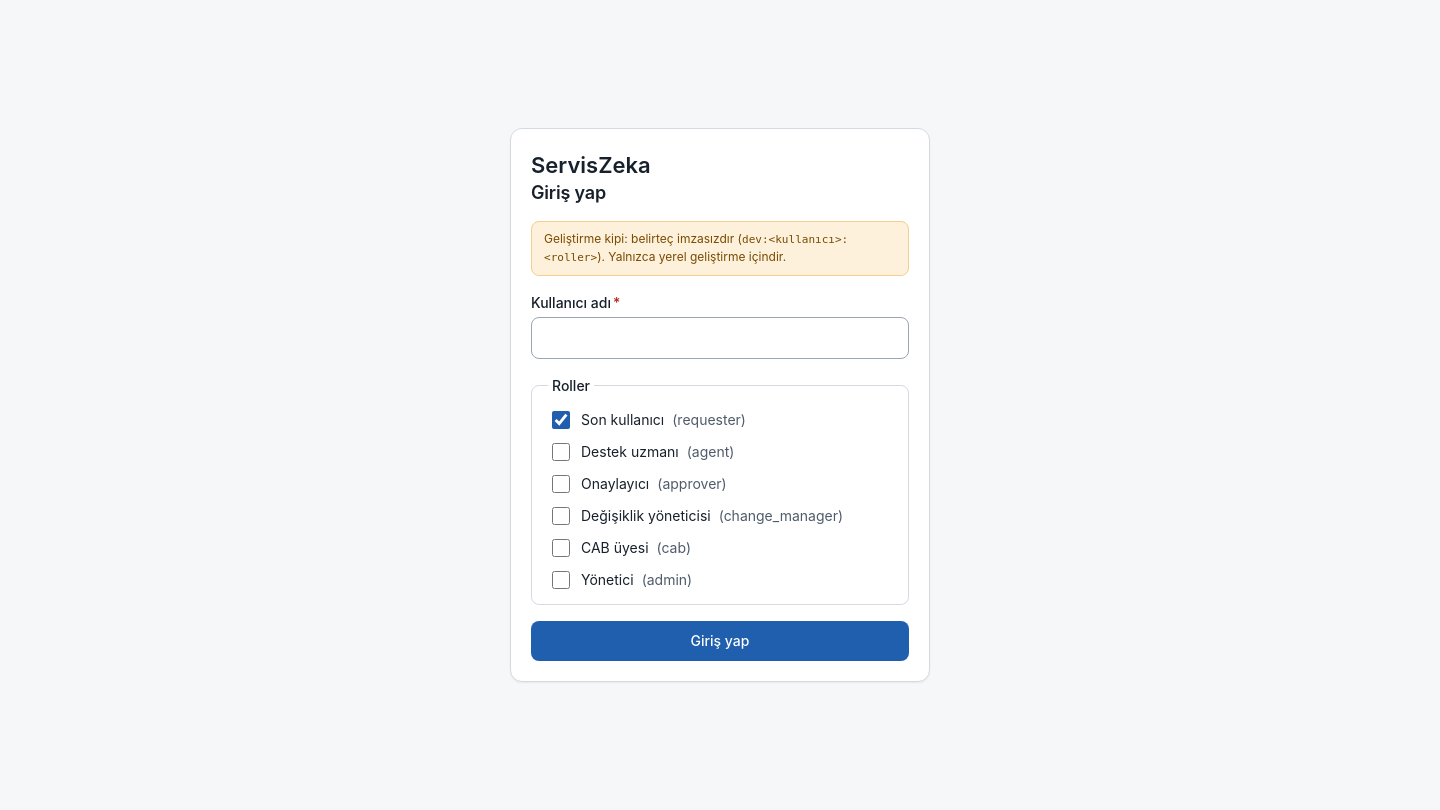
Test case: uygulama kabuğu › oturum yoksa dev giriş sayfasına yönlendirir ve giriş sonrası geri döner
Check: the heading "Giriş yap" is shown, box [531,182,606,203]
Type "sef.ali" into the field labelled "Kullanıcı adı*". click: (720, 338)
box: [531,317,909,359]
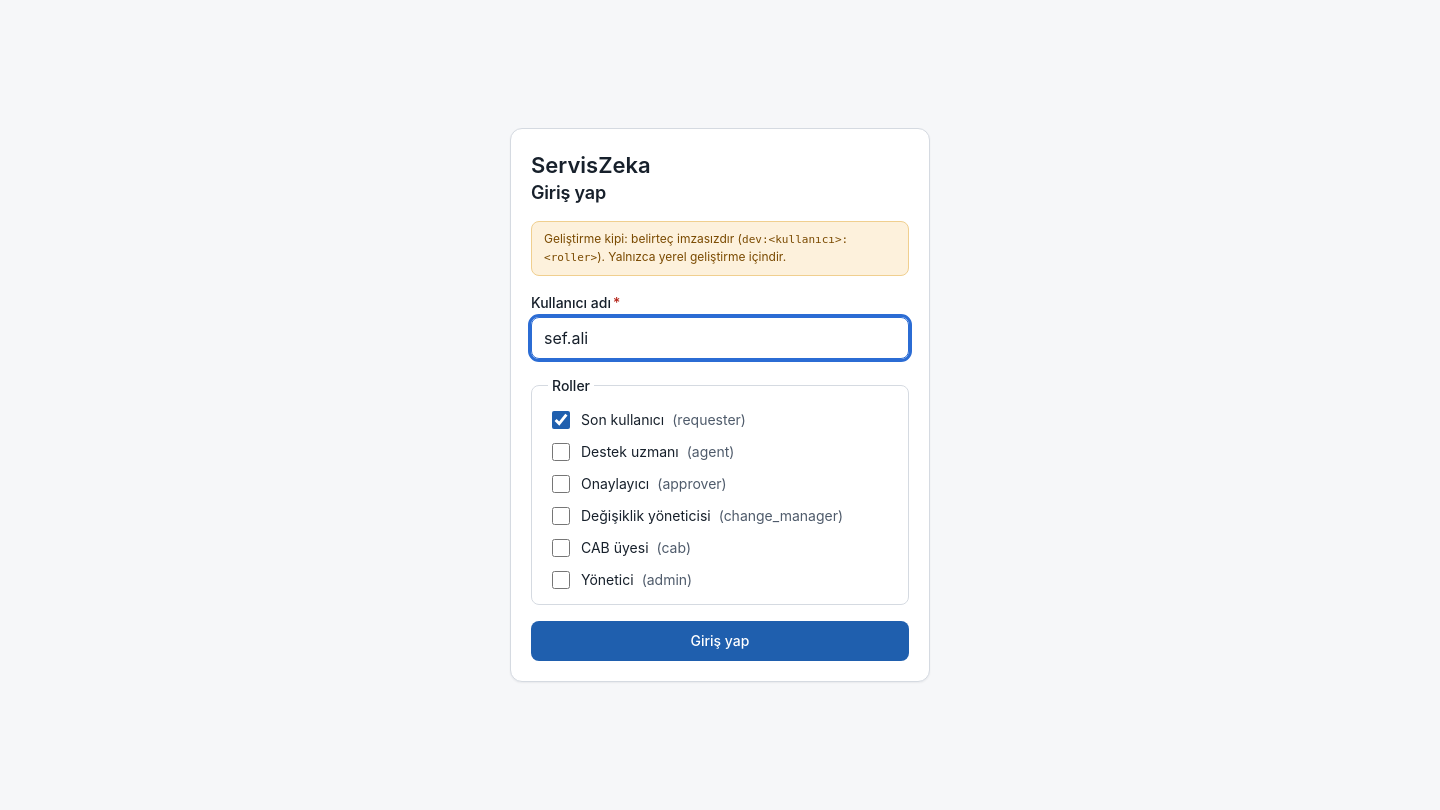
Click the checkbox labelled "Son kullanıcı (requester)". click: click(561, 420)
box: [552,411,570,429]
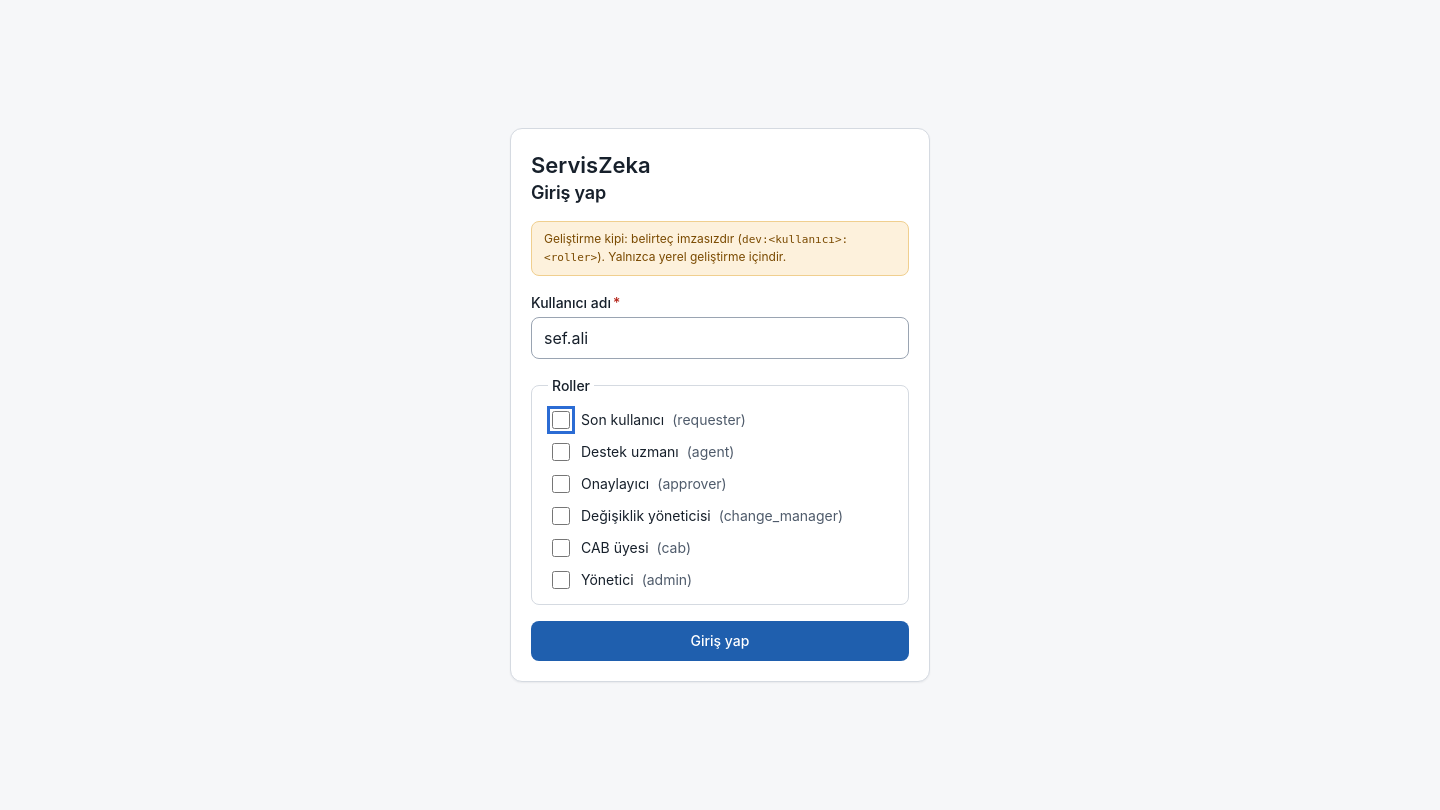
Click the checkbox labelled "Onaylayıcı (approver)". click: click(561, 484)
box: [552,475,570,493]
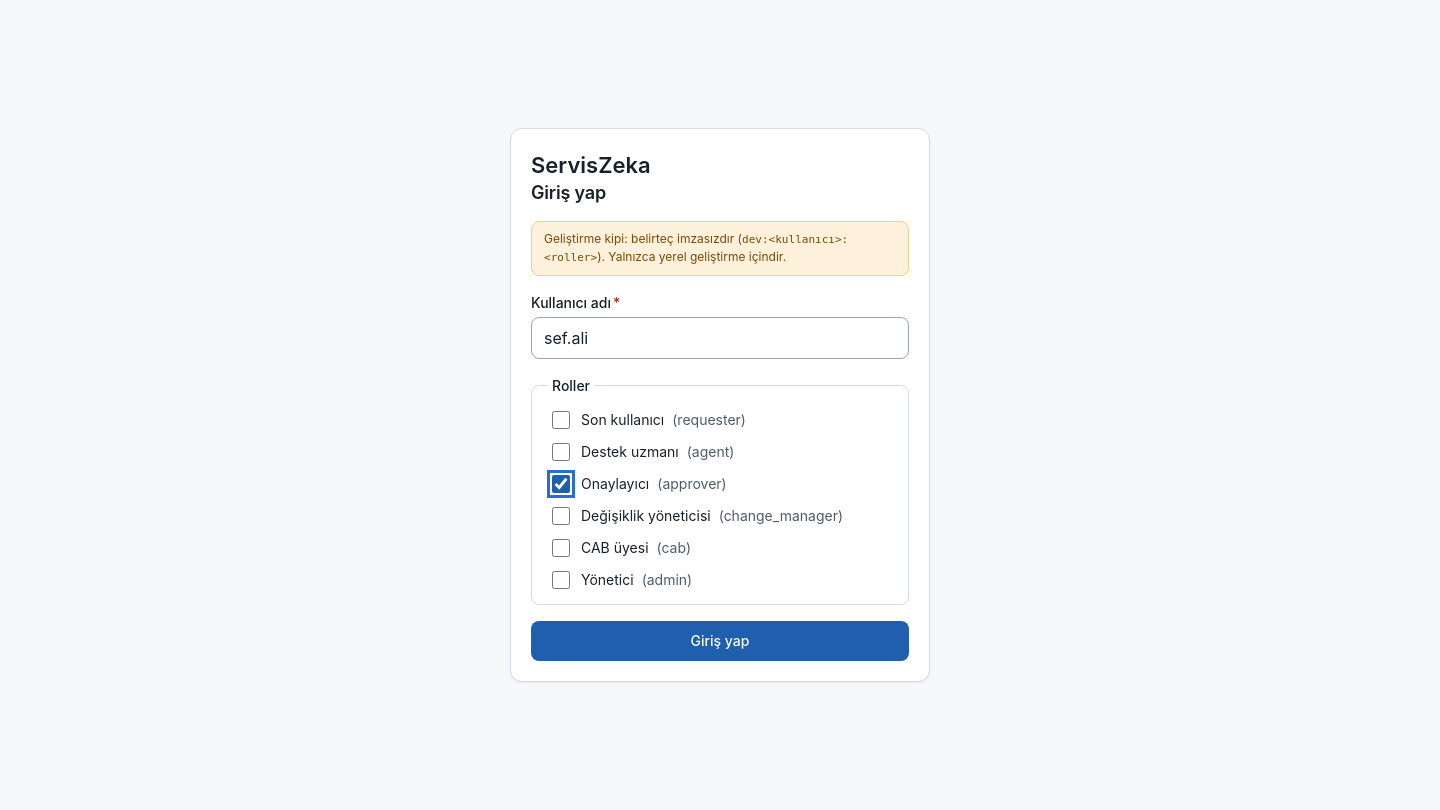
Click the button "Giriş yap". click: click(720, 641)
box: [531,621,909,661]
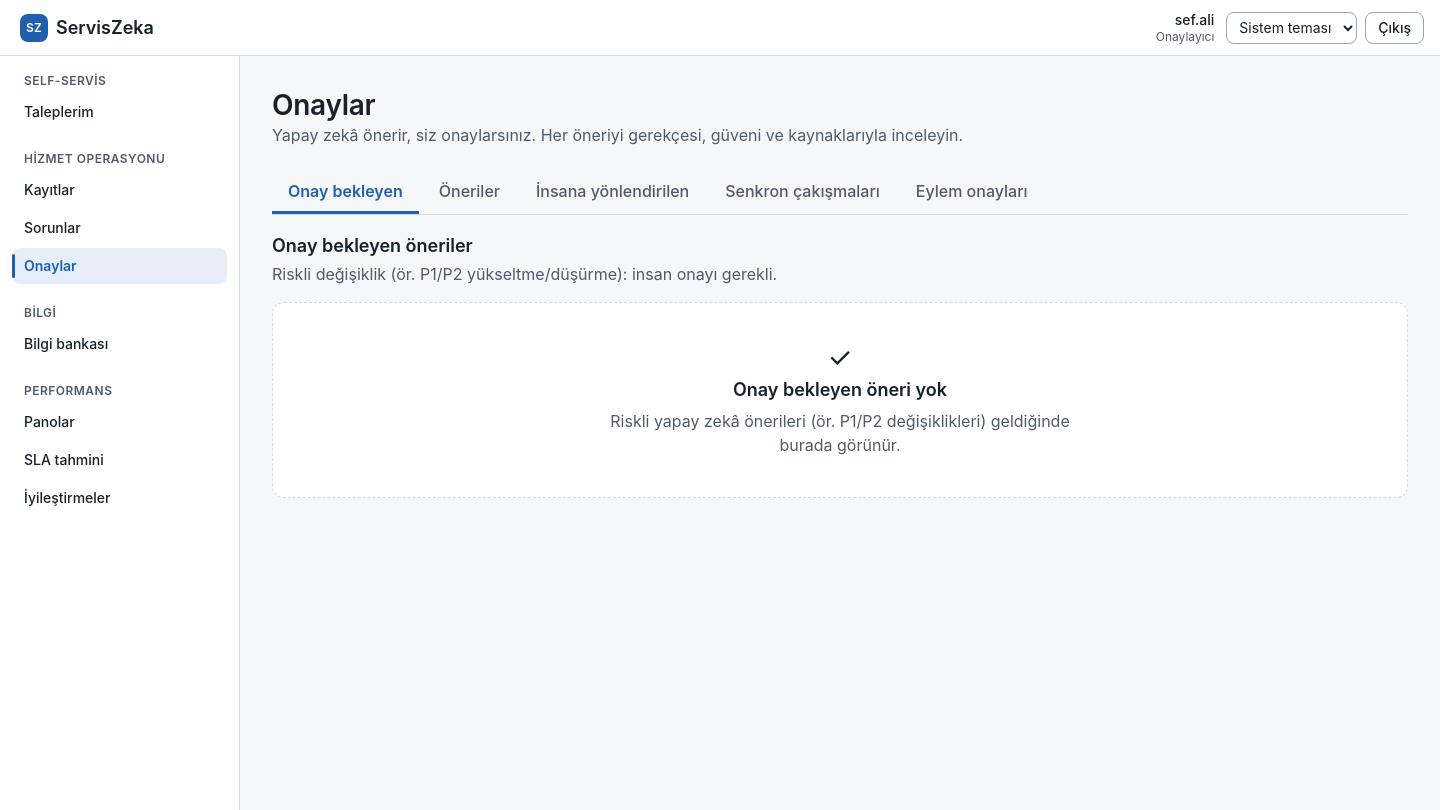
Check: the heading "Onaylar" is shown, box [272,88,375,122]
Check: the text "sef.ali" is shown, box [1175,11,1214,28]
